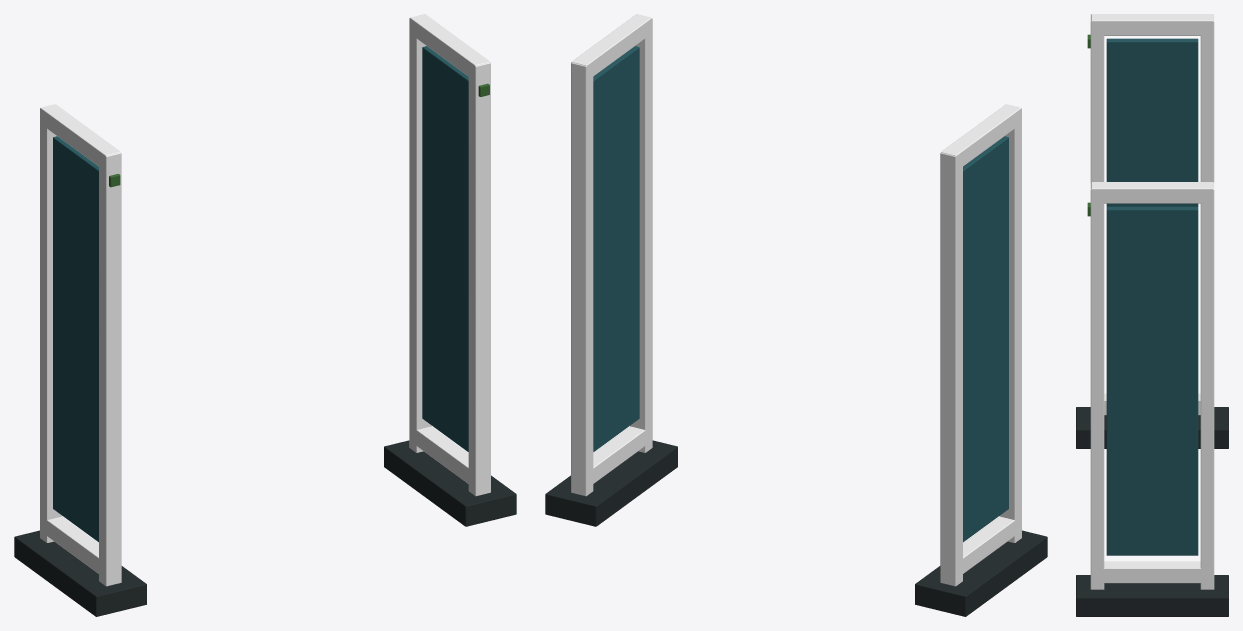
The model's file is store-security-gate.glb.
3 renders of one model, left to right at view 1: azimuth 30°, elevation 25°; view 2: azimuth 150°, elevation 25°; view 3: azimuth 270°, elevation 25°, orthographic. The views are drawn at different scales.
Parts seen in each view (by area): view 1: Antenna_Core, Antenna_Core.001, Antenna_Post.003, Antenna_Post.001, Antenna_Post, Antenna_Post.002, Base, Base.001, Antenna_End.002, Antenna_End, Antenna_End.003, Antenna_End.001; view 2: Antenna_Core, Antenna_Core.001, Antenna_Post, Antenna_Post.002, Antenna_Post.003, Antenna_Post.001, Base, Base.001, Antenna_End, Antenna_End.002, Antenna_End.003, Antenna_End.001; view 3: Antenna_Core, Antenna_Core.001, Antenna_Post.003, Antenna_Post, Base, Antenna_End.002, Antenna_End.003, Antenna_End, Antenna_Post.002, Antenna_Post.001, Base.001.
Part boxes in pixels (left/top/right/bottom): Antenna_Core: left=422, top=46, right=468, bottom=451; Antenna_Core.001: left=53, top=136, right=98, bottom=542; Antenna_Post.003: left=468, top=62, right=490, bottom=496; Antenna_Post.001: left=99, top=152, right=121, bottom=586; Antenna_Post: left=409, top=18, right=431, bottom=452; Antenna_Post.002: left=40, top=108, right=62, bottom=542; Base: left=384, top=440, right=516, bottom=526; Base.001: left=14, top=530, right=146, bottom=616; Antenna_End.002: left=40, top=104, right=120, bottom=170; Antenna_End: left=410, top=14, right=490, bottom=77; Antenna_End.003: left=410, top=426, right=472, bottom=484; Antenna_End.001: left=40, top=516, right=105, bottom=573; Antenna_Core: left=593, top=46, right=639, bottom=451; Antenna_Core.001: left=963, top=136, right=1008, bottom=542; Antenna_Post: left=571, top=62, right=593, bottom=496; Antenna_Post.002: left=940, top=152, right=962, bottom=586; Antenna_Post.003: left=630, top=18, right=652, bottom=452; Antenna_Post.001: left=999, top=108, right=1021, bottom=542; Base: left=545, top=440, right=677, bottom=526; Base.001: left=915, top=530, right=1047, bottom=616; Antenna_End: left=571, top=14, right=651, bottom=79; Antenna_End.002: left=941, top=104, right=1021, bottom=170; Antenna_End.003: left=587, top=426, right=651, bottom=488; Antenna_End.001: left=956, top=516, right=1015, bottom=578; Antenna_Core: left=1106, top=206, right=1198, bottom=555; Antenna_Core.001: left=1106, top=38, right=1198, bottom=206; Antenna_Post.003: left=1090, top=183, right=1104, bottom=589; Antenna_Post: left=1200, top=183, right=1214, bottom=589; Base: left=1076, top=575, right=1228, bottom=616; Antenna_End.002: left=1091, top=14, right=1213, bottom=35; Antenna_End.003: left=1092, top=561, right=1212, bottom=583; Antenna_End: left=1091, top=182, right=1213, bottom=203; Antenna_Post.002: left=1200, top=15, right=1214, bottom=182; Antenna_Post.001: left=1090, top=15, right=1104, bottom=182; Base.001: left=1076, top=407, right=1228, bottom=448.
Bounding box in the file's own units: 1.48 × 1.52 × 0.5.
